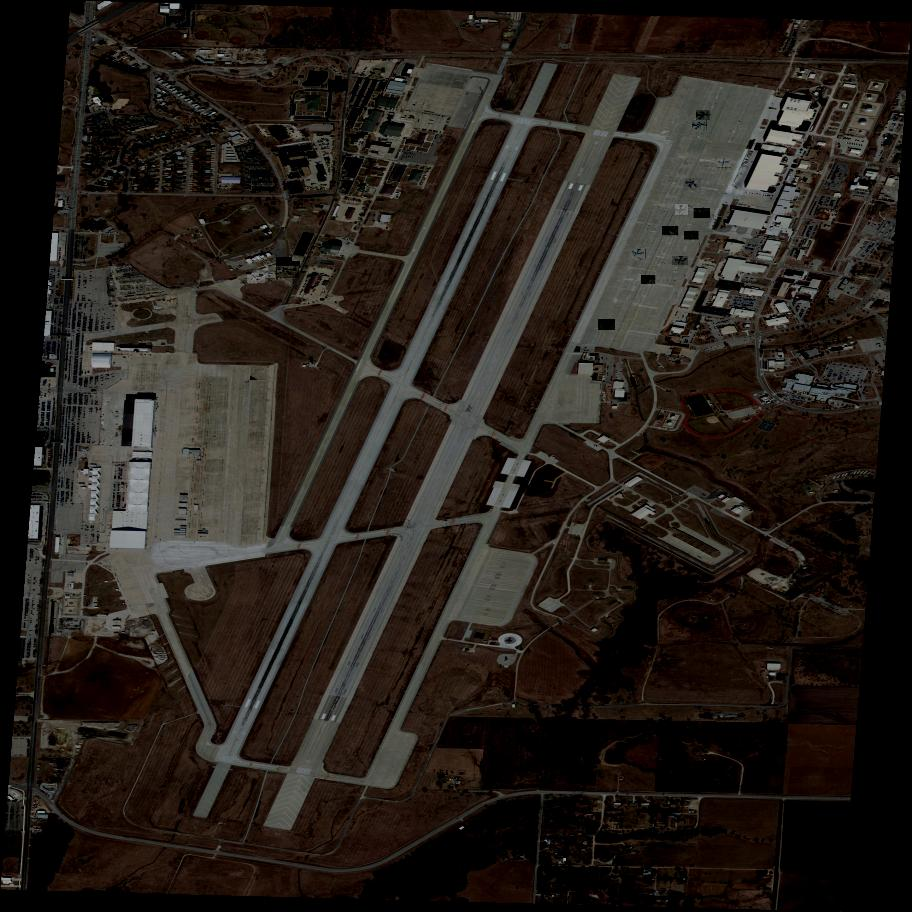plane: (329, 76, 349, 96), (276, 265, 299, 280), (684, 177, 702, 192), (248, 273, 265, 286), (598, 319, 615, 332), (277, 256, 292, 270), (663, 225, 679, 238), (631, 249, 646, 260), (674, 205, 689, 216), (694, 208, 710, 218), (691, 120, 707, 130), (695, 110, 710, 120), (673, 256, 688, 265), (287, 261, 300, 270), (642, 276, 655, 284), (685, 231, 698, 239), (717, 160, 731, 167), (262, 272, 275, 278), (506, 637, 515, 644), (303, 61, 309, 66), (253, 269, 259, 274), (336, 75, 342, 80), (299, 75, 304, 79), (249, 229, 253, 233), (322, 85, 326, 88), (253, 226, 259, 228), (277, 270, 282, 272), (325, 64, 330, 66), (293, 68, 297, 70), (259, 274, 263, 276), (245, 231, 248, 233), (274, 272, 279, 273), (294, 82, 298, 83), (247, 273, 251, 274), (293, 268, 295, 269), (336, 70, 338, 71), (245, 232, 246, 233)
